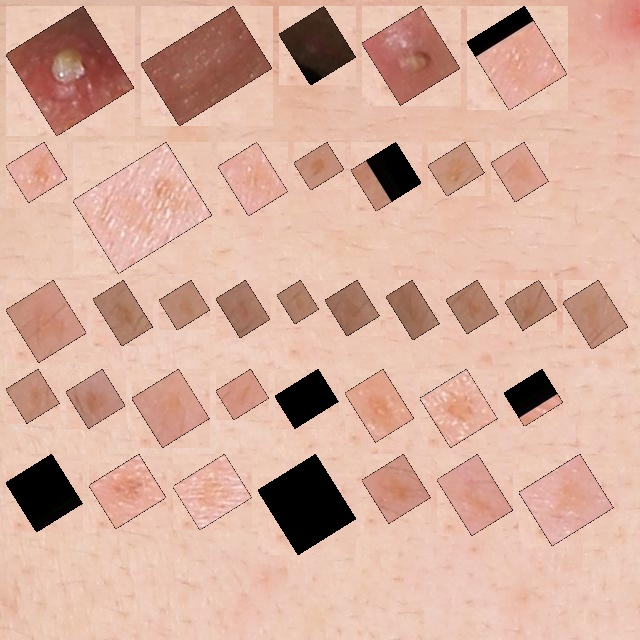hypertrophic_scar: (152, 17, 261, 115)
melasma: (84, 153, 201, 262), (478, 17, 556, 99), (269, 465, 345, 543), (530, 465, 602, 535), (17, 291, 75, 351), (448, 465, 502, 524), (143, 380, 198, 436), (431, 380, 486, 436), (17, 465, 72, 521), (184, 465, 241, 519), (100, 465, 155, 517), (229, 153, 277, 205), (356, 380, 403, 431), (362, 153, 410, 200), (373, 465, 420, 512), (574, 291, 617, 338), (104, 291, 142, 335), (286, 380, 327, 417), (17, 153, 56, 191), (77, 380, 114, 417), (502, 153, 537, 191), (515, 380, 552, 415), (397, 291, 428, 329), (227, 291, 259, 327), (439, 153, 473, 185), (336, 291, 368, 325), (457, 291, 488, 323), (17, 380, 48, 412), (227, 380, 258, 409), (516, 291, 546, 319), (170, 291, 199, 319), (305, 153, 333, 179), (288, 291, 308, 313)
pustule: (17, 17, 123, 125), (373, 17, 449, 94), (290, 17, 345, 74)
